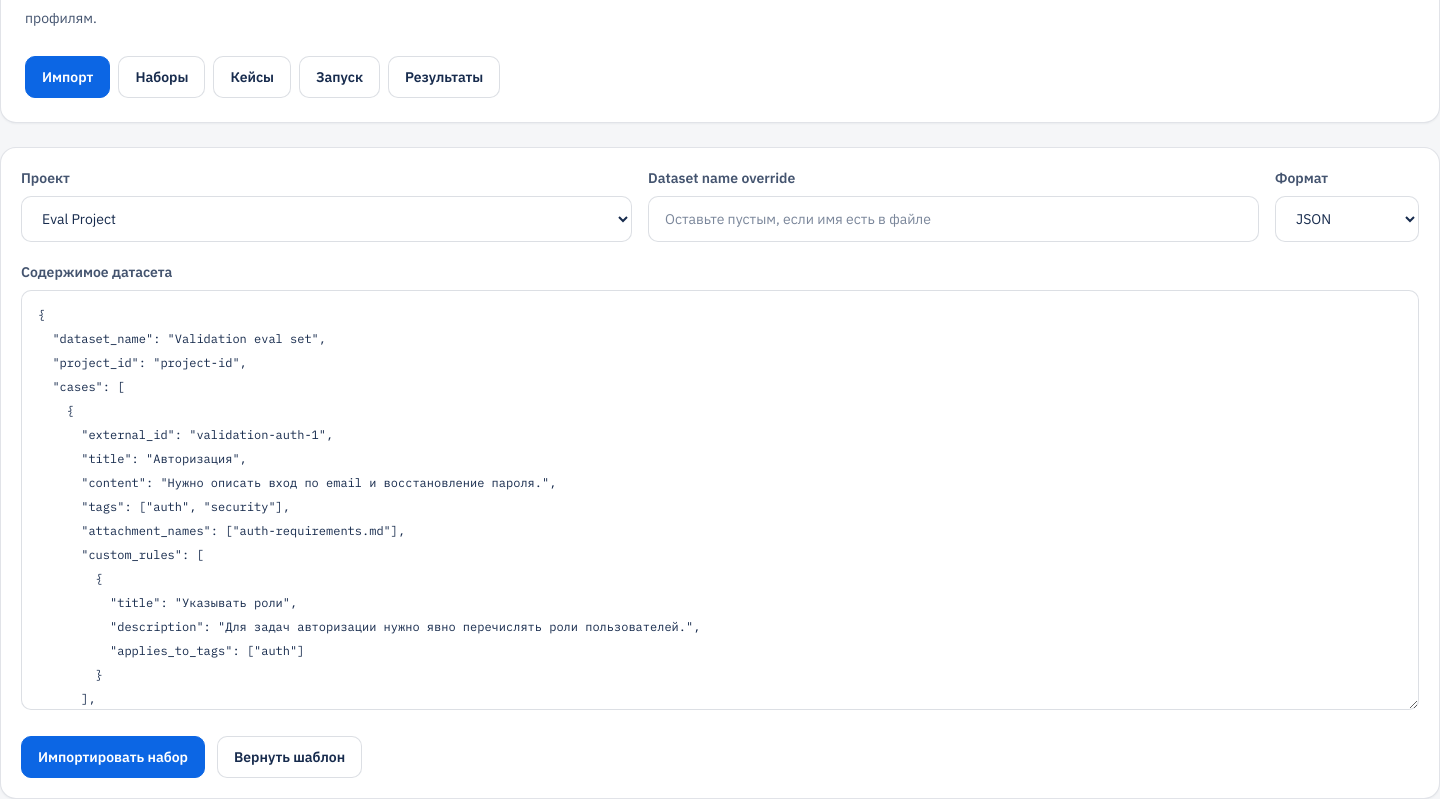
Test: ValidationEvalPage › imports a JSON dataset and starts a Validation Eval run
(page scrolled)
Click the button "Импортировать набор": (113, 756) [21, 736, 205, 778]
(page scrolled)
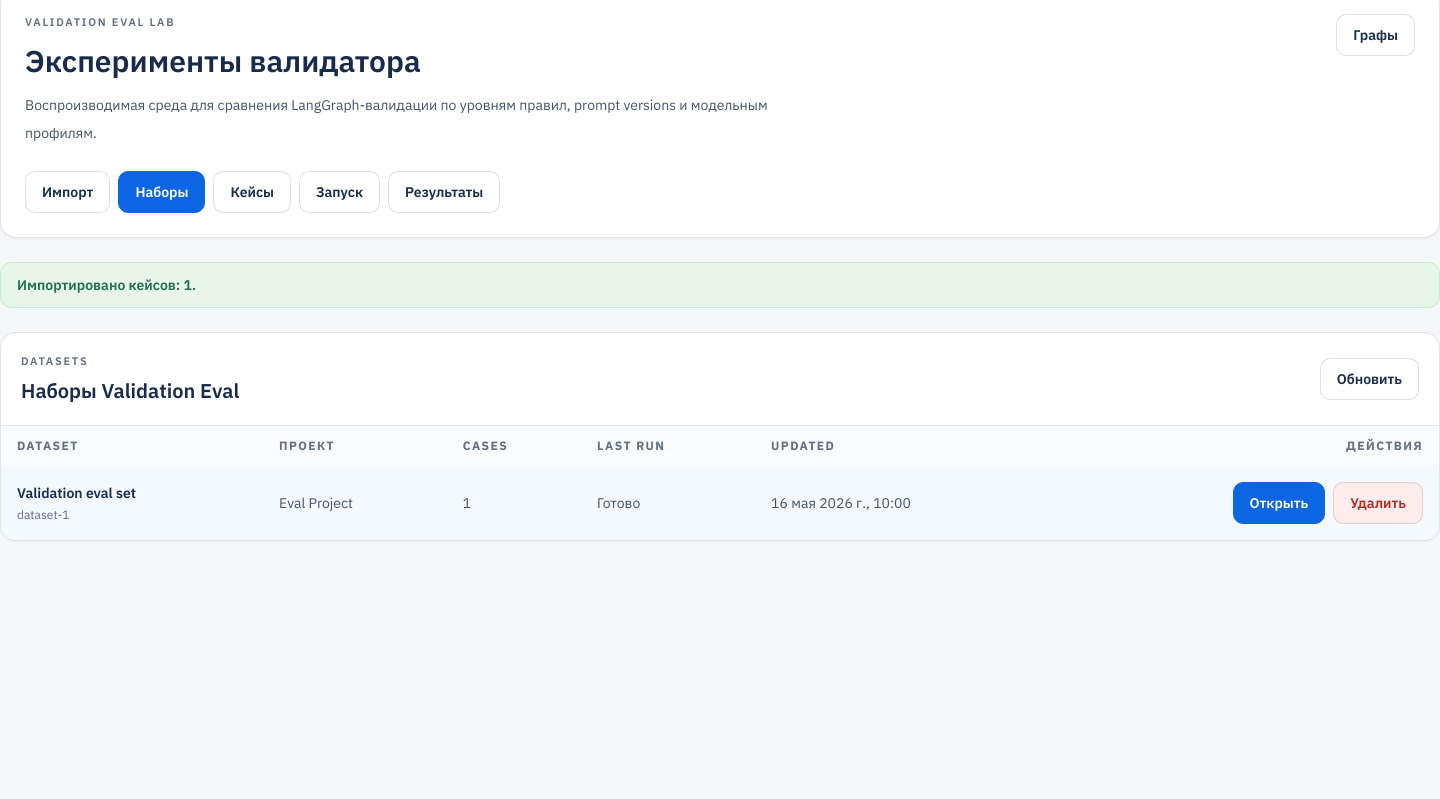
Expected: the text "Импортировано кейсов: 1." is shown, [0, 262, 1439, 308]
Click the button "Запуск": (340, 192) [299, 170, 380, 212]
(page scrolled)
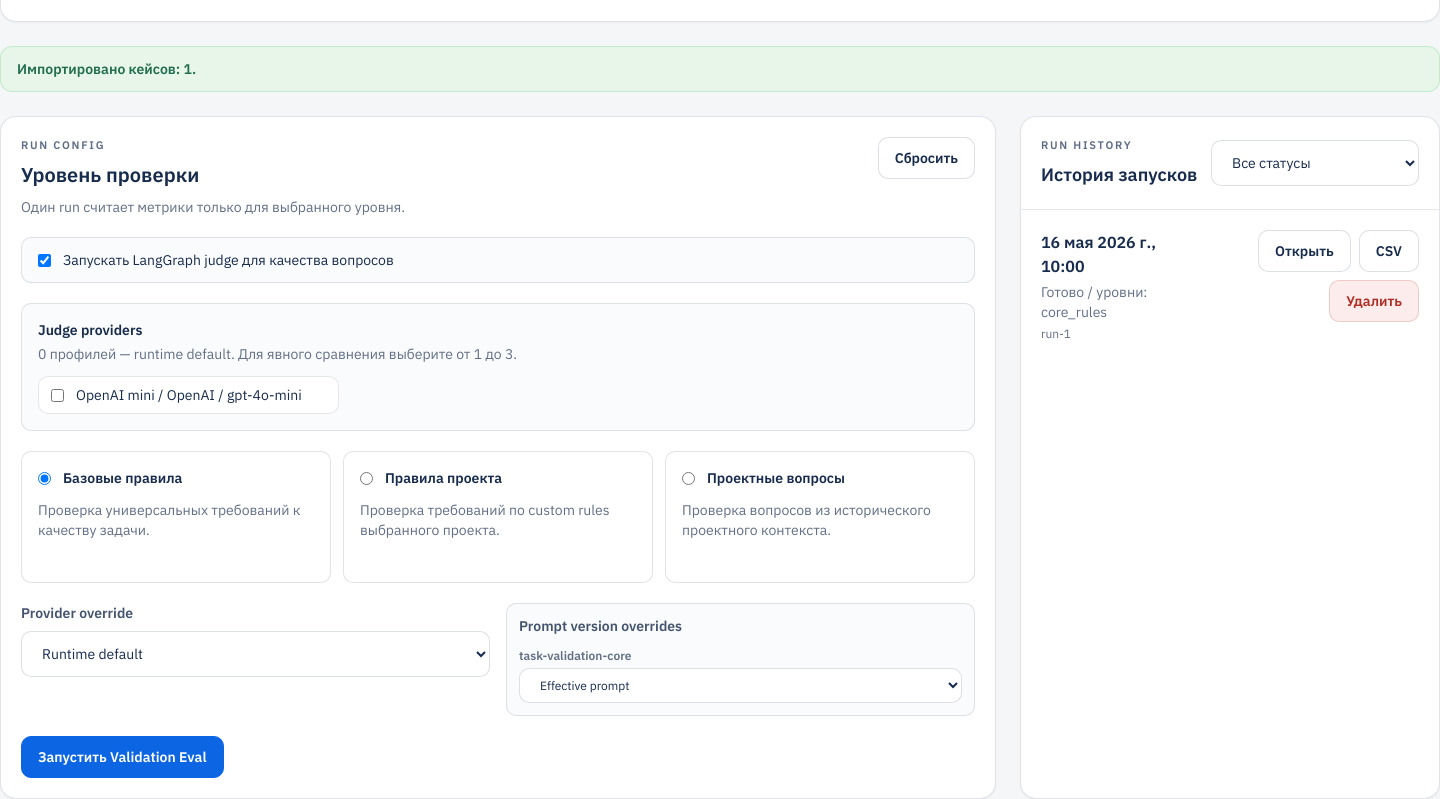
Click the button "Запустить Validation Eval": (122, 757) [21, 736, 224, 778]
(page scrolled)
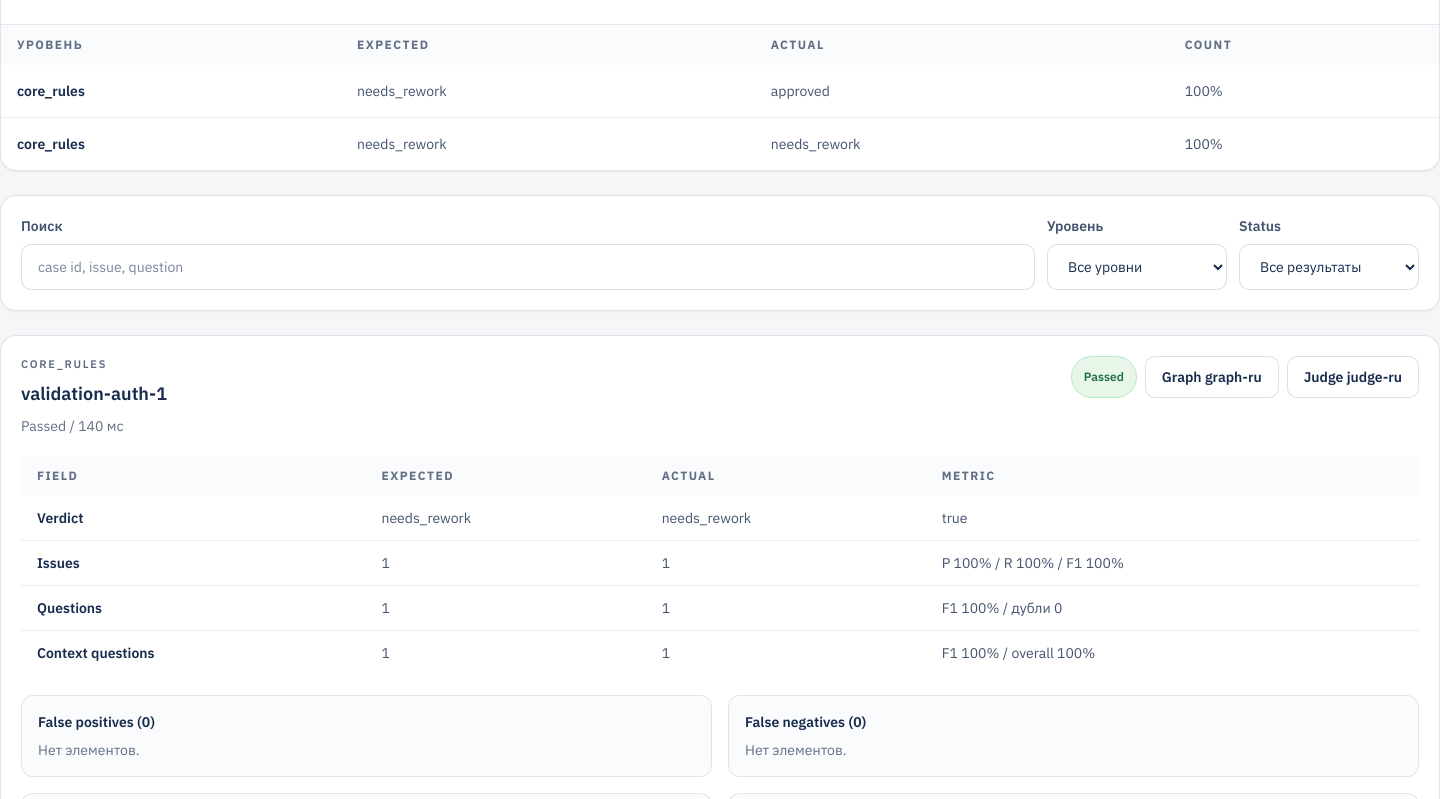
Expected: the heading "validation-auth-1" is shown, [21, 380, 167, 408]
